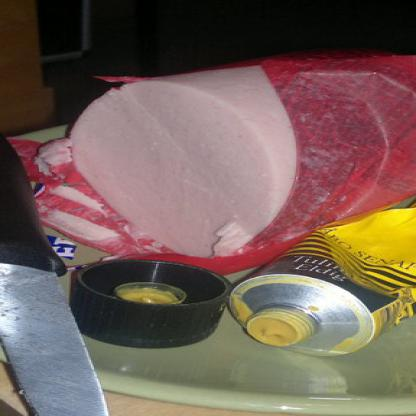knife: (0, 96, 127, 415)
